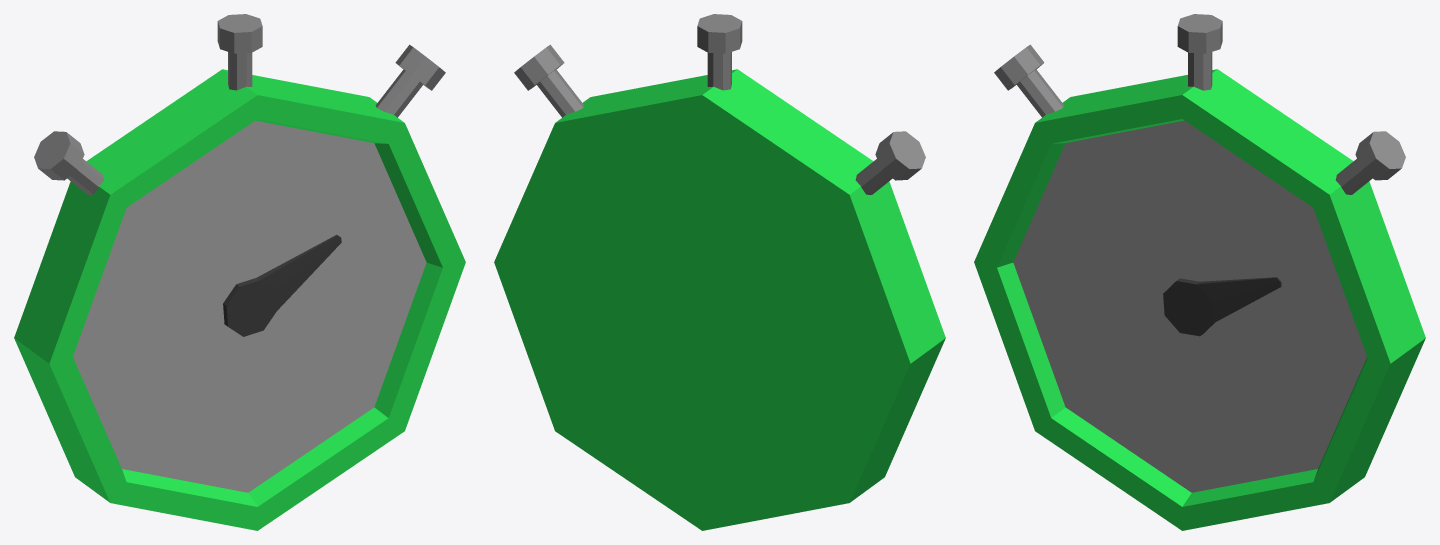
Rendered from Stopwatch.fbx.
The picture shows the model from 3 angles, left to right: view 1: azimuth 30°, elevation 25°; view 2: azimuth 150°, elevation 25°; view 3: azimuth 330°, elevation 25°; orthographic projection.
Visible parts, largest first — view 1: Stopwatch_Base, Stopwatch_Hand, Stopwatch_Knob_2, Stopwatch_Knob, Stopwatch_Knob_1; view 2: Stopwatch_Base, Stopwatch_Knob_2, Stopwatch_Knob, Stopwatch_Knob_1; view 3: Stopwatch_Base, Stopwatch_Hand, Stopwatch_Knob_1, Stopwatch_Knob, Stopwatch_Knob_2.
Boxes of the visible parts, <box> form: Stopwatch_Base: <box>14,69,465,530</box>; Stopwatch_Hand: <box>223,234,341,336</box>; Stopwatch_Knob_2: <box>34,131,104,194</box>; Stopwatch_Knob: <box>217,14,262,90</box>; Stopwatch_Knob_1: <box>375,44,445,117</box>; Stopwatch_Base: <box>494,69,945,530</box>; Stopwatch_Knob_2: <box>855,131,925,194</box>; Stopwatch_Knob: <box>697,14,742,90</box>; Stopwatch_Knob_1: <box>514,44,584,117</box>; Stopwatch_Base: <box>974,69,1425,530</box>; Stopwatch_Hand: <box>1163,277,1281,336</box>; Stopwatch_Knob_1: <box>1335,131,1405,194</box>; Stopwatch_Knob: <box>1177,14,1222,90</box>; Stopwatch_Knob_2: <box>994,44,1064,117</box>.
Bounding box in the file's own units: 1.51 × 1.71 × 0.2218.
